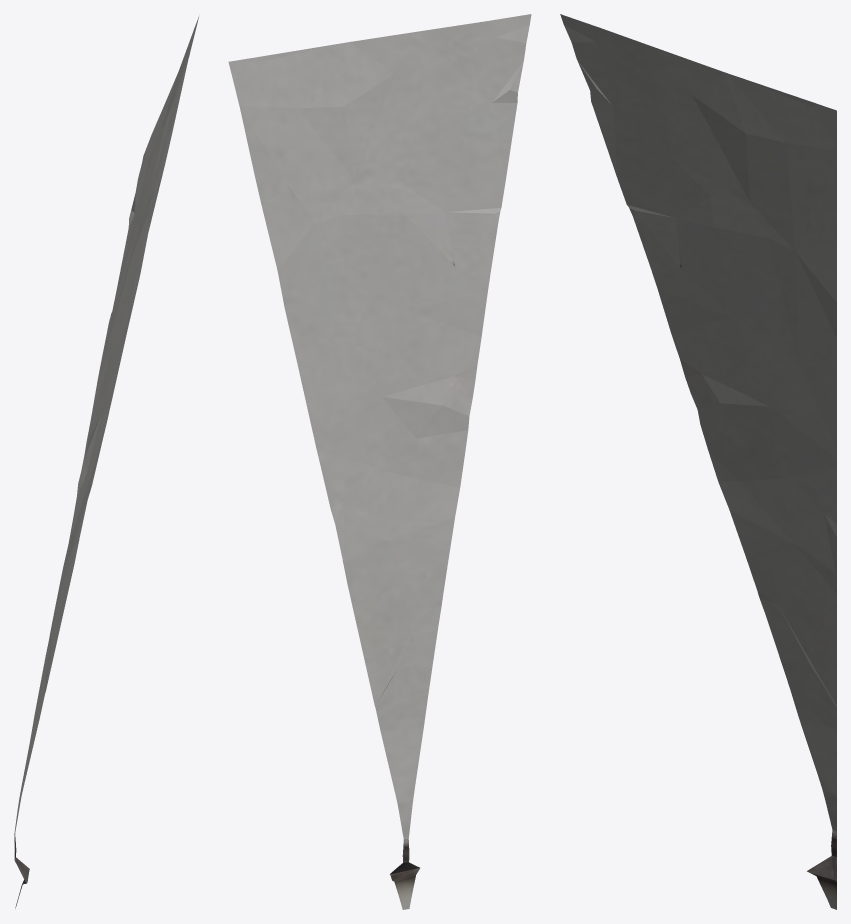
3 views of the same model, side by side, from view 1: azimuth 30°, elevation 25°; view 2: azimuth 150°, elevation 25°; view 3: azimuth 270°, elevation 25° (orthographic). The views are drawn at different scales.
Size of the model in its own units: 0.3878 by 1.67 by 0.47.
Materials: 1 (1 with a texture image).
